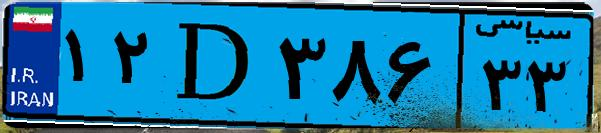1: (57, 26, 110, 100)
2: (110, 28, 158, 98)
3: (270, 28, 330, 110), (475, 38, 525, 113), (525, 38, 570, 115)
6: (385, 28, 445, 110)
8: (330, 28, 385, 110)
D: (158, 12, 270, 120)
